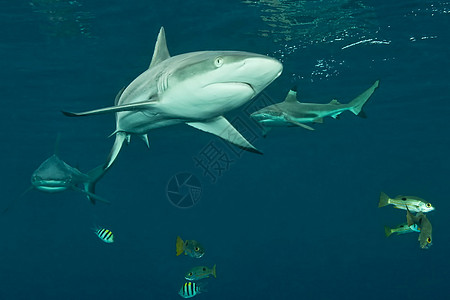shark: (64, 34, 292, 165), (245, 75, 385, 132), (23, 149, 114, 206)
